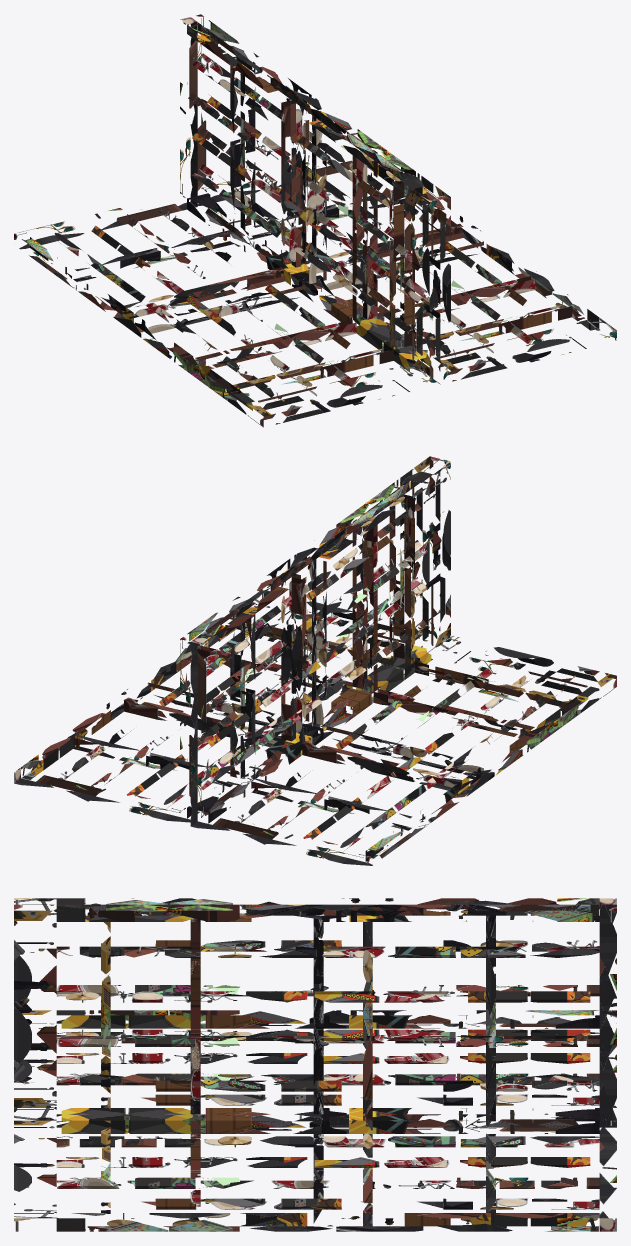
3 renders of one model, top to bottom at view 1: azimuth 30°, elevation 25°; view 2: azimuth 150°, elevation 25°; view 3: azimuth 270°, elevation 25°, orthographic. The views are drawn at different scales.
Size of the model in its own units: 2 by 1 by 2.45.
